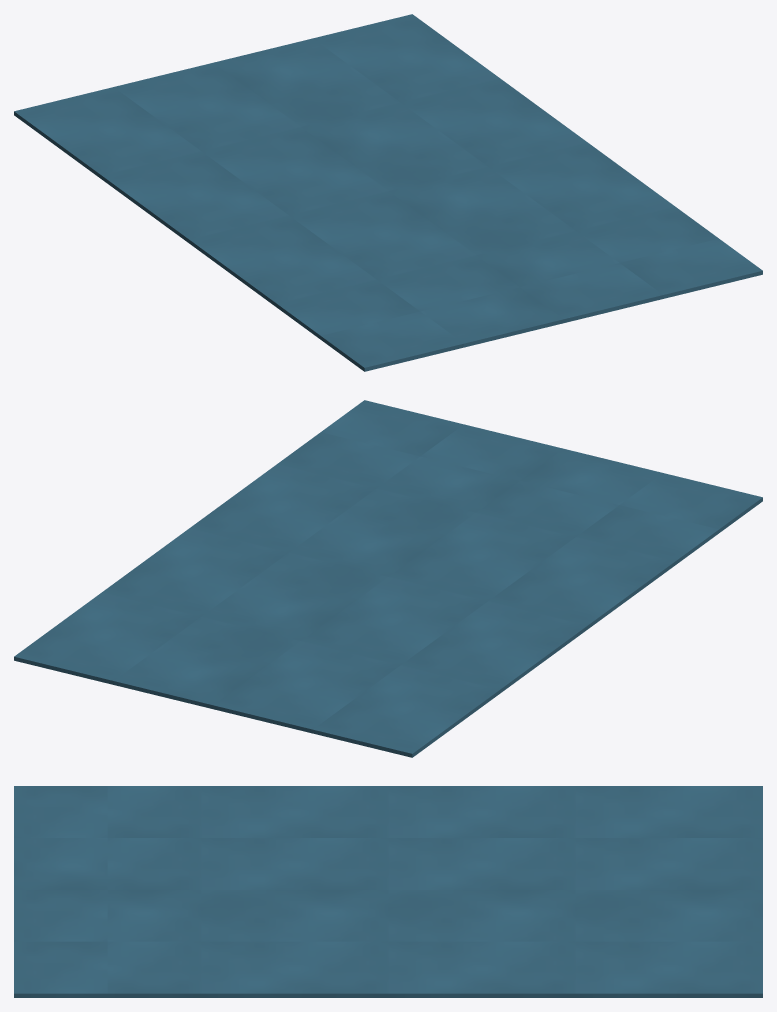
File: SM_Stream_Water_Straight.fbx
3 views of the same model, one above another, from view 1: azimuth 30°, elevation 25°; view 2: azimuth 150°, elevation 25°; view 3: azimuth 270°, elevation 25° (orthographic). The views are drawn at different scales.
Visible parts, largest first — view 1: SM_Stream_Water_Straight; view 2: SM_Stream_Water_Straight; view 3: SM_Stream_Water_Straight.
Part boxes in pixels (x1,y1,x2,y2): SM_Stream_Water_Straight: (14,14,762,371); SM_Stream_Water_Straight: (14,400,762,757); SM_Stream_Water_Straight: (14,786,762,997).
Bounding box in the file's own units: 10.5 × 0.1 × 16.
Materials: 1 (1 with a texture image).
